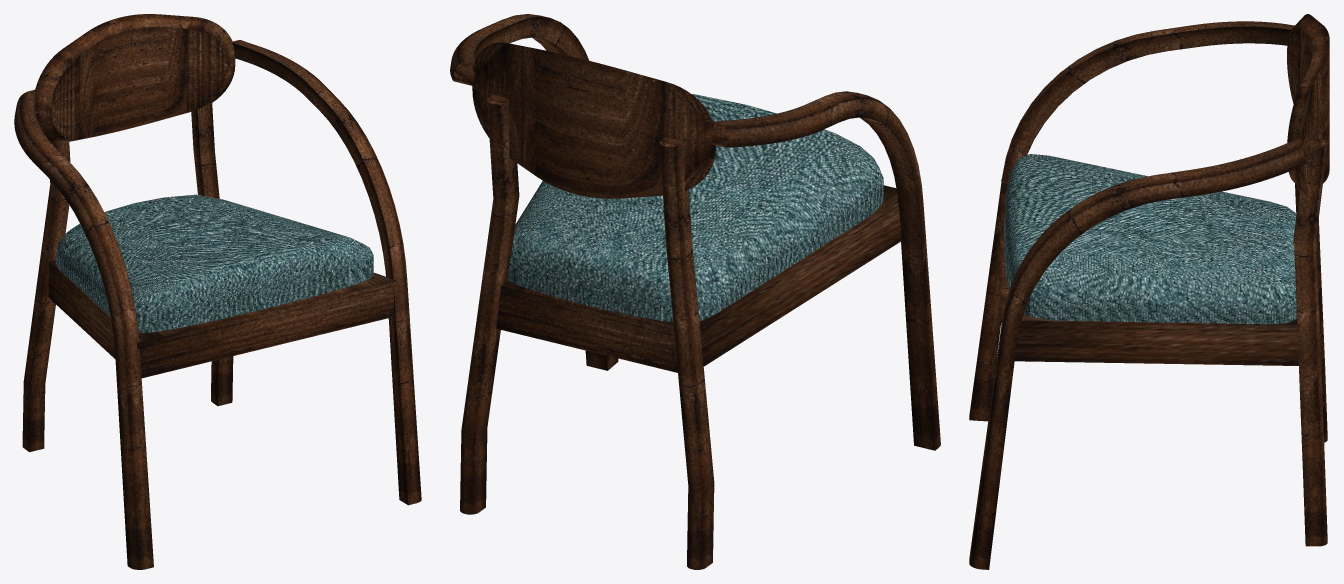
Rendered from Chairtwo.glb.
3 renders of one model, left to right at view 1: azimuth 30°, elevation 25°; view 2: azimuth 150°, elevation 25°; view 3: azimuth 270°, elevation 25°, orthographic. The views are drawn at different scales.
Parts seen in each view (by area): view 1: Cushion, Leg1, Cube.1, Bottom, Leg Back; view 2: Cushion, Cube.1, Leg Back, Leg1, Bottom; view 3: Cushion, Leg1, Bottom, Leg Back, Cube.1.
Part boxes in pixels (x1,y1,x2,y2): Cushion: (55, 194, 373, 332); Leg1: (14, 40, 421, 569); Cube.1: (34, 14, 235, 142); Bottom: (48, 260, 395, 378); Leg Back: (22, 102, 233, 452); Cushion: (507, 94, 883, 321); Cube.1: (472, 42, 715, 198); Leg Back: (460, 94, 714, 569); Leg1: (450, 14, 940, 450); Bottom: (496, 185, 901, 372); Cushion: (1004, 154, 1296, 324); Leg1: (969, 21, 1307, 569); Bottom: (1001, 179, 1298, 365); Leg Back: (1294, 139, 1327, 546); Cube.1: (1287, 14, 1329, 194).
Size of the model in its own units: 59.58 by 79.13 by 57.41.
Materials: 1 (1 with a texture image).
